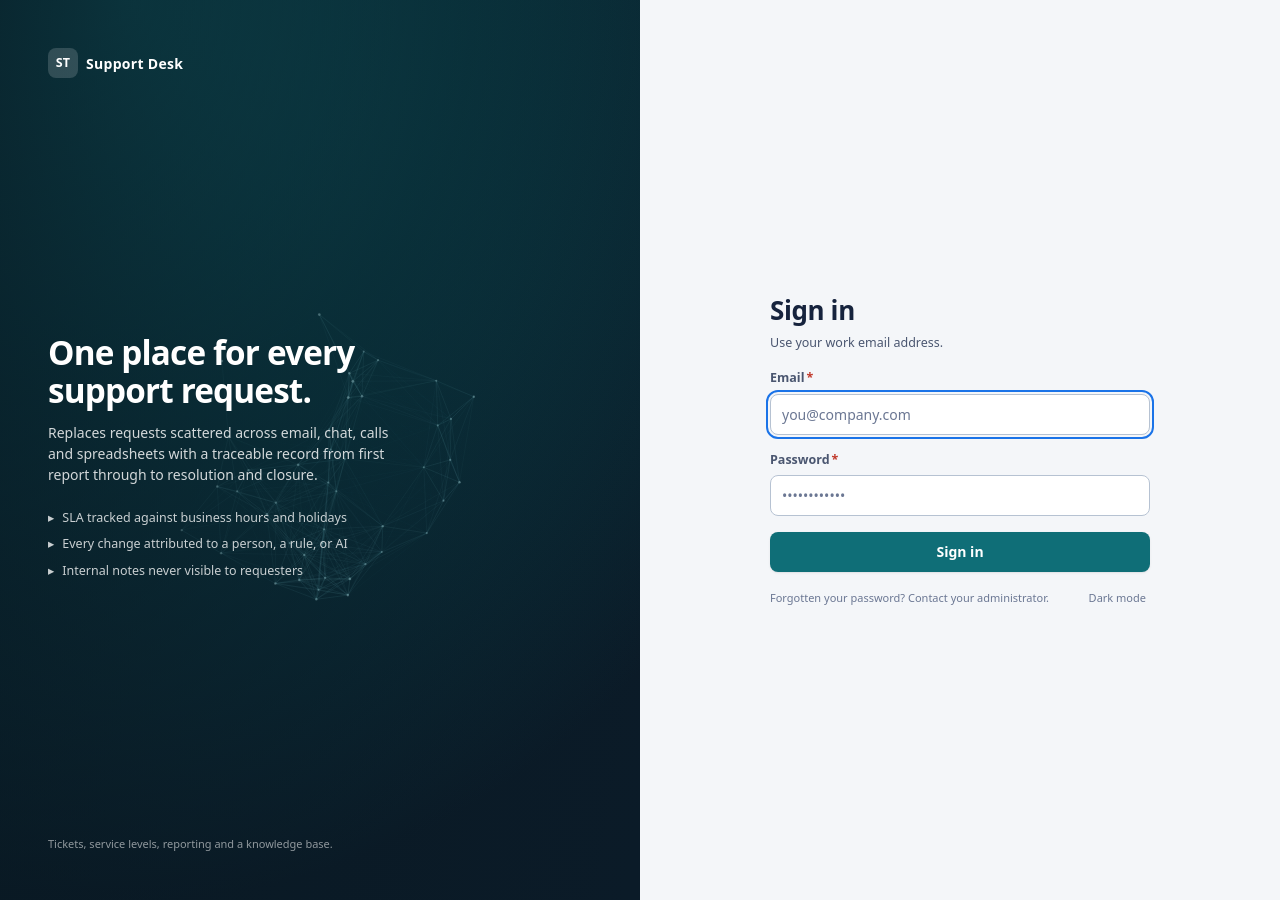
Test: LoginPage › tells the user the server is unreachable instead of blaming their password
In the field labelled "Email*": (960, 414) [770, 394, 1150, 435], type "agent@itg.test"
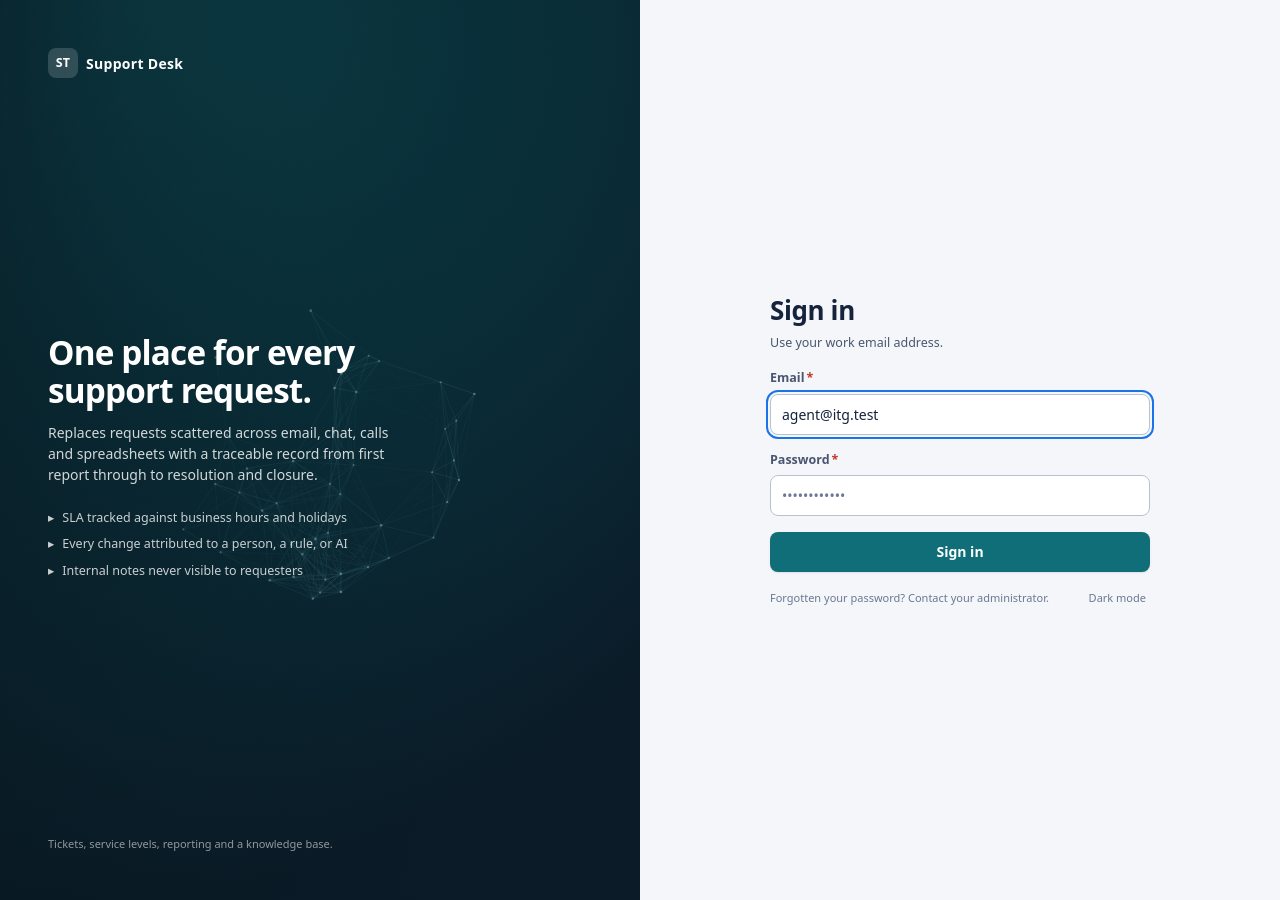
In the password field labelled "Password*": (960, 496) [770, 475, 1150, 516], type "CorrectPassword1!"
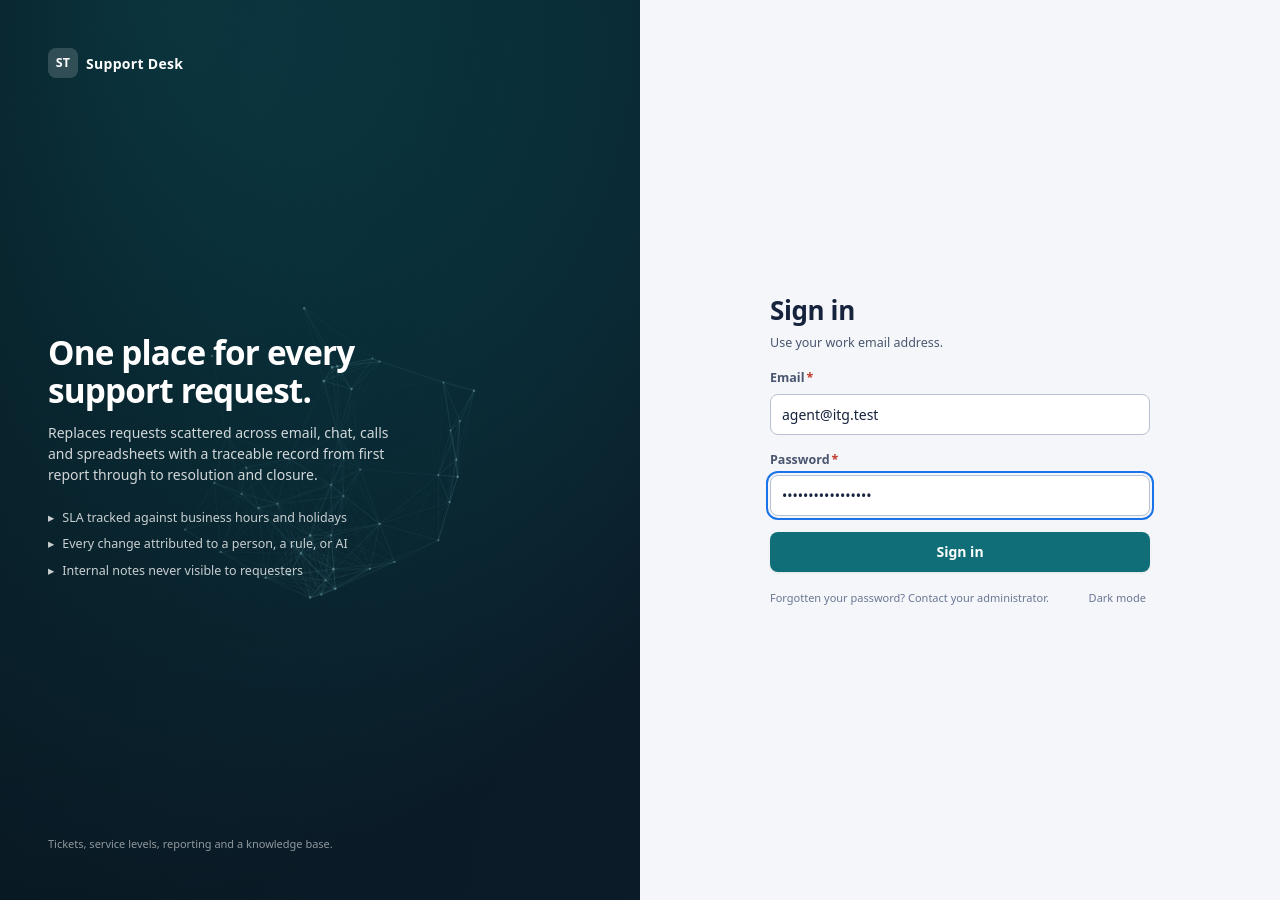
Click the button "Sign in": (960, 552) [770, 532, 1150, 572]
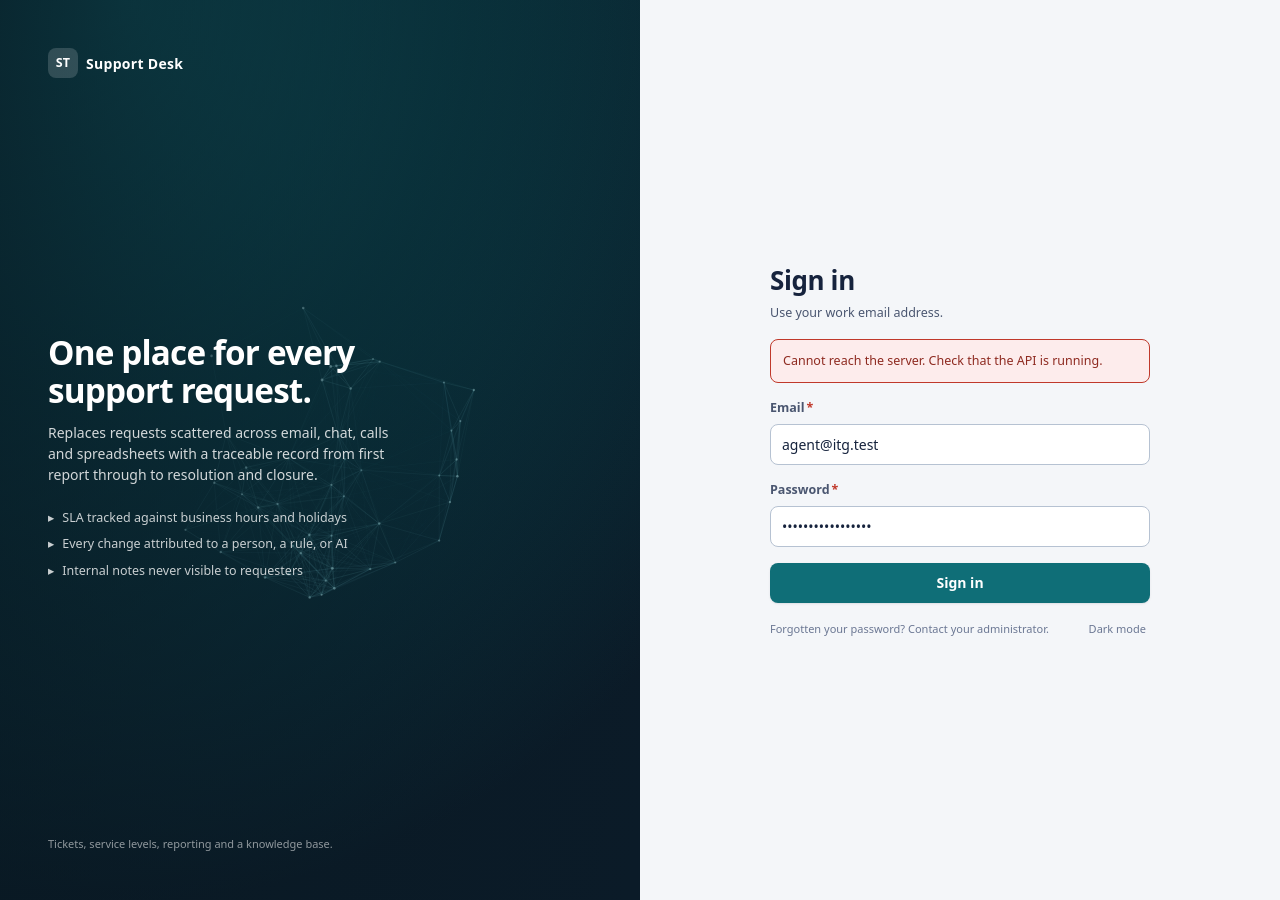
Now the message shows "Cannot reach the server", box [783, 352, 1102, 368]
